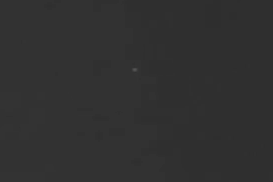Target: (134, 69, 137, 72)
